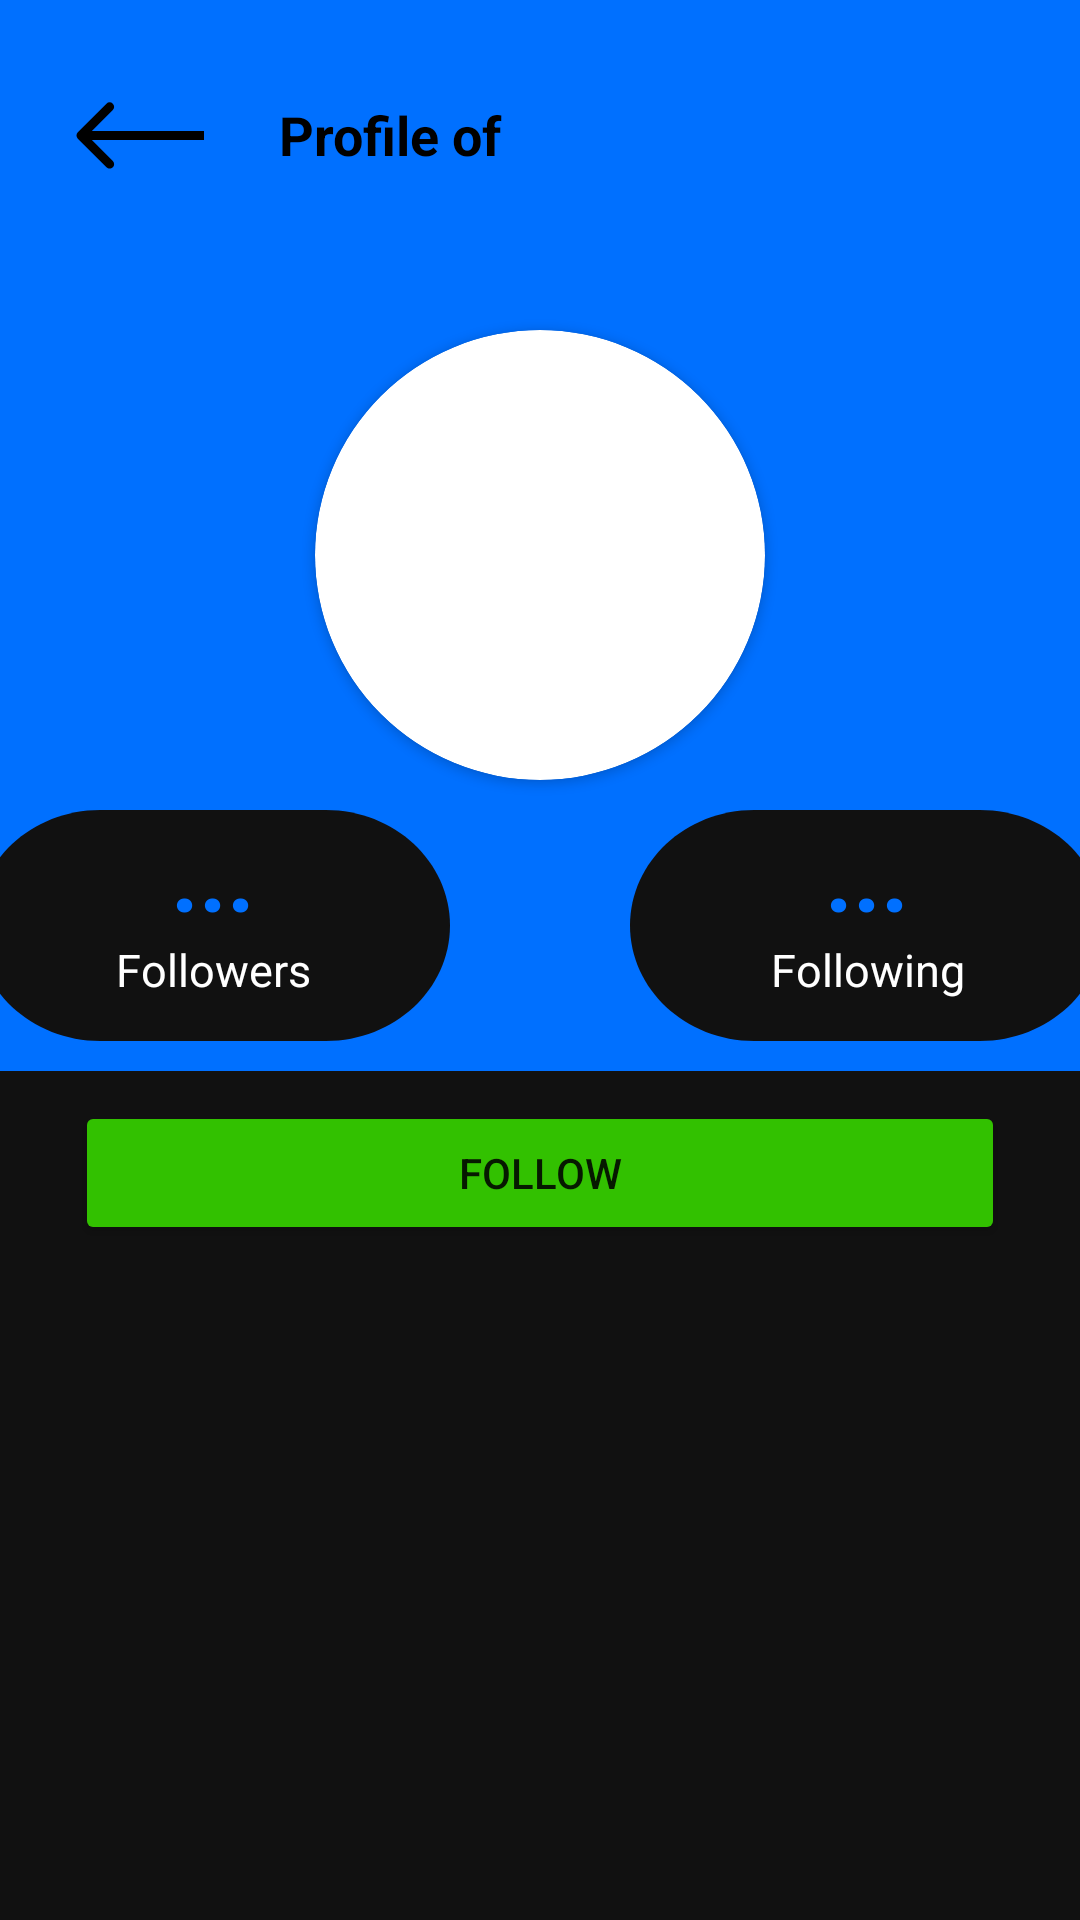

Where to tap for icons on this 1080w x 1920h app screen, as point (x, y):
arrow left: point (140, 135)
